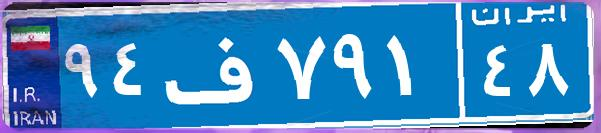1: (385, 28, 445, 110)
4: (475, 38, 525, 113), (110, 28, 158, 105)
7: (273, 28, 330, 110)
8: (525, 38, 570, 115)
9: (330, 28, 385, 110), (57, 26, 110, 107)
ف: (158, 15, 273, 115)
